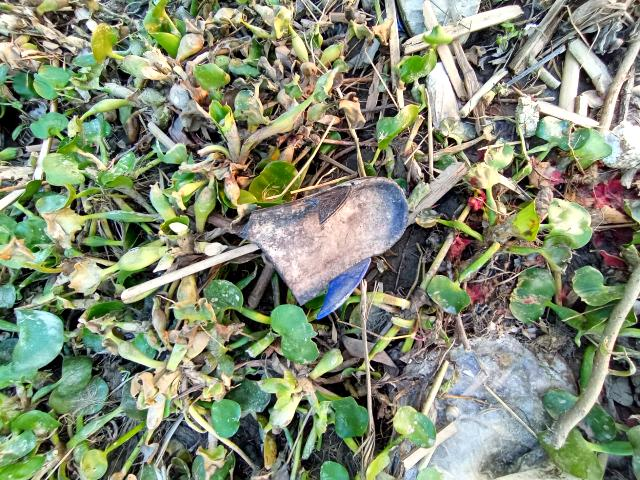sandal: (231, 133, 433, 329)
